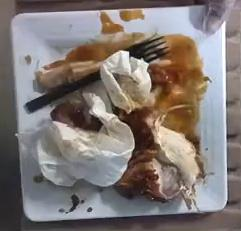chicken: (113, 107, 201, 206), (169, 107, 197, 137)
